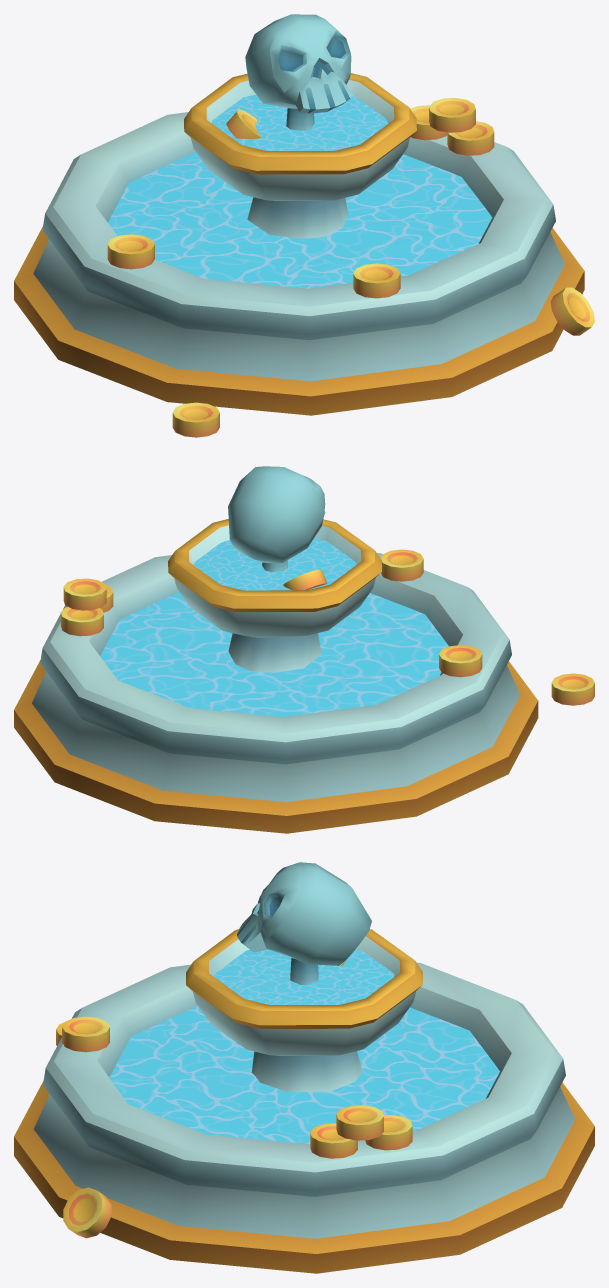
Rendered from env_Fountain_HUB_v02.fbx.
3 renders of one model, top to bottom at view 1: azimuth 30°, elevation 25°; view 2: azimuth 150°, elevation 25°; view 3: azimuth 270°, elevation 25°, orthographic. The views are drawn at different scales.
Parts seen in each view (by area): view 1: Fountain_HUB, Fountain_water_2, Fountain_water_1, Loot_Coin.012, Loot_Coin.011, Loot_Coin.014, Loot_Coin.013, Loot_Coin.010, Loot_Coin.009, Loot_Coin.016, Loot_Coin.008; view 2: Fountain_HUB, Fountain_water_2, Fountain_water_1, Loot_Coin.014, Loot_Coin.013, Loot_Coin.010, Loot_Coin.011, Loot_Coin.008, Loot_Coin.016; view 3: Fountain_HUB, Fountain_water_2, Fountain_water_1, Loot_Coin.012, Loot_Coin.010, Loot_Coin.011, Loot_Coin.009, Loot_Coin.008.
Boxes of the visible parts, x1,y1,x2,y2 form: Fountain_HUB: (14, 14, 584, 415); Fountain_water_2: (108, 152, 492, 288); Fountain_water_1: (212, 94, 388, 150); Loot_Coin.012: (550, 287, 594, 335); Loot_Coin.011: (353, 263, 400, 298); Loot_Coin.014: (172, 402, 219, 437); Loot_Coin.013: (107, 234, 154, 269); Loot_Coin.010: (429, 98, 475, 132); Loot_Coin.009: (447, 121, 494, 155); Loot_Coin.016: (226, 109, 261, 139); Loot_Coin.008: (410, 105, 447, 140); Fountain_HUB: (14, 466, 538, 833); Fountain_water_2: (100, 592, 448, 716); Fountain_water_1: (193, 538, 356, 590); Loot_Coin.014: (551, 673, 594, 705); Loot_Coin.013: (439, 645, 482, 677); Loot_Coin.010: (63, 578, 106, 610); Loot_Coin.011: (380, 549, 423, 581); Loot_Coin.008: (60, 606, 103, 636); Loot_Coin.016: (283, 569, 327, 590); Fountain_HUB: (14, 862, 594, 1273); Fountain_water_2: (109, 1006, 499, 1144); Fountain_water_1: (214, 949, 394, 1004); Loot_Coin.012: (63, 1187, 111, 1238); Loot_Coin.010: (336, 1105, 383, 1140); Loot_Coin.011: (62, 1016, 109, 1052); Loot_Coin.009: (310, 1123, 357, 1158); Loot_Coin.008: (365, 1115, 412, 1150).
Bounding box in the file's own units: 876 × 468 × 876.
